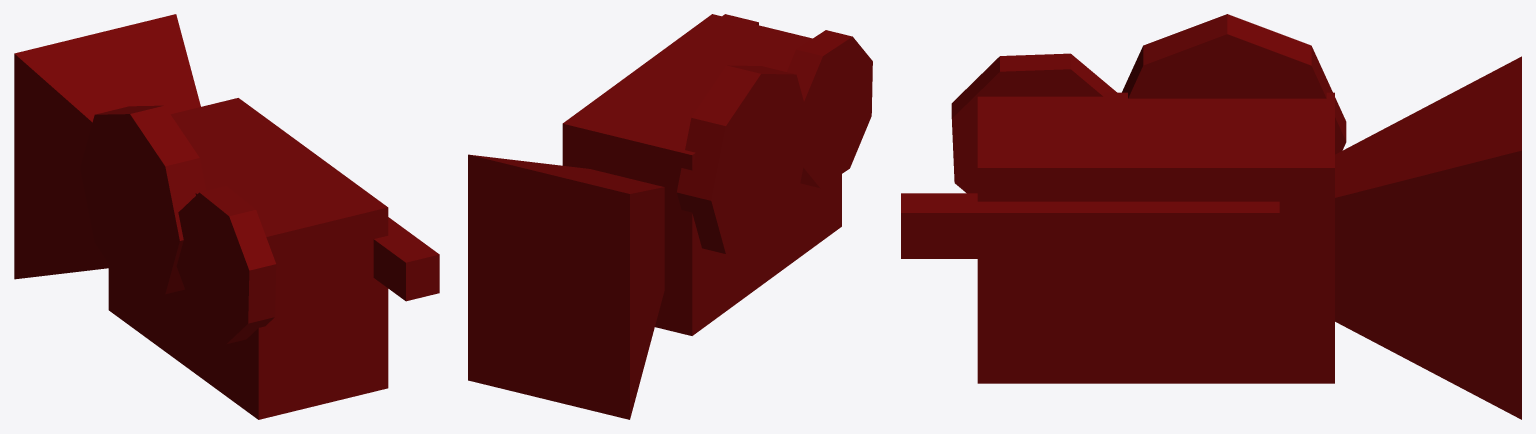
The model's file is editor_camera.obj.
3 views of the same model, side by side, from view 1: azimuth 30°, elevation 25°; view 2: azimuth 150°, elevation 25°; view 3: azimuth 270°, elevation 25° (orthographic). The views are drawn at different scales.
Visible parts, largest first — view 1: camera; view 2: camera; view 3: camera.
Boxes of the visible parts, <box> form: camera: <box>14,14,439,419</box>; camera: <box>468,14,872,419</box>; camera: <box>901,14,1521,419</box>.
Bounding box in the file's own units: 0.25 × 0.3559 × 0.6518.
